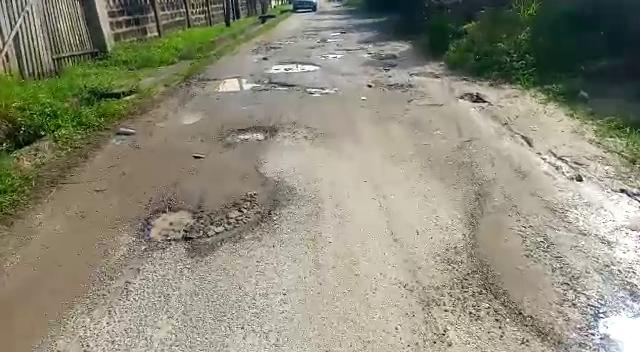pothole: (130, 186, 288, 255), (595, 307, 640, 352), (208, 75, 297, 92), (220, 124, 283, 144), (266, 61, 325, 72), (306, 85, 337, 95)
